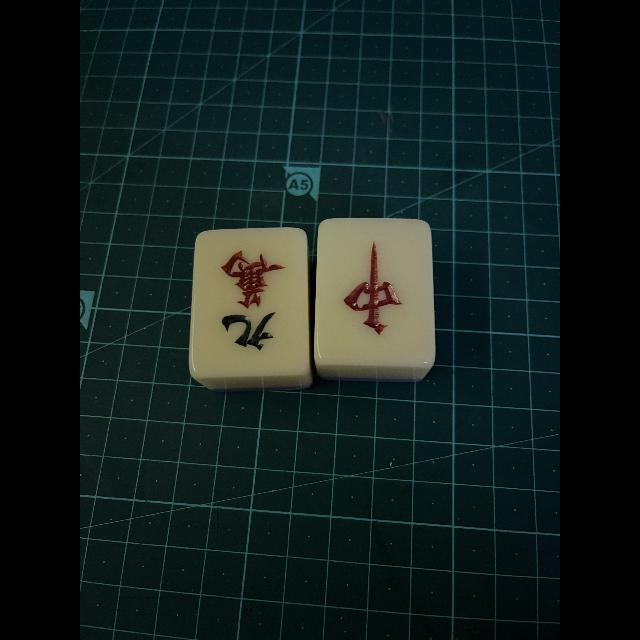c9: (196, 232, 304, 371)
dr: (318, 220, 429, 362)
